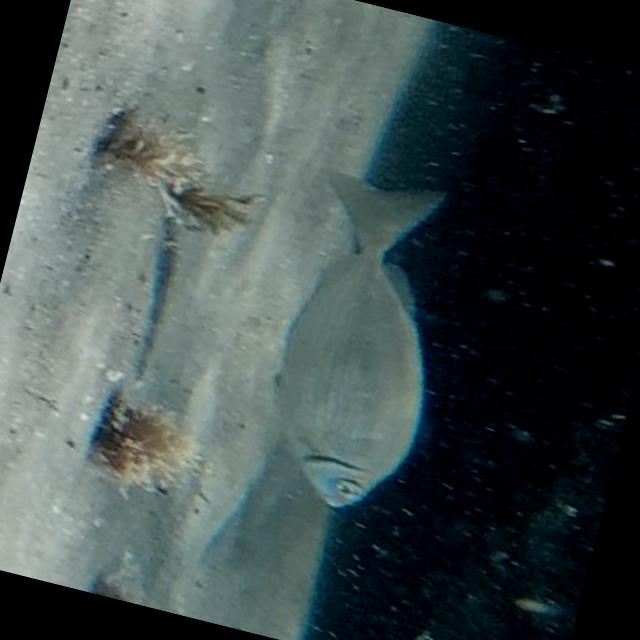Sokar Baligi: (234, 146, 496, 536)
